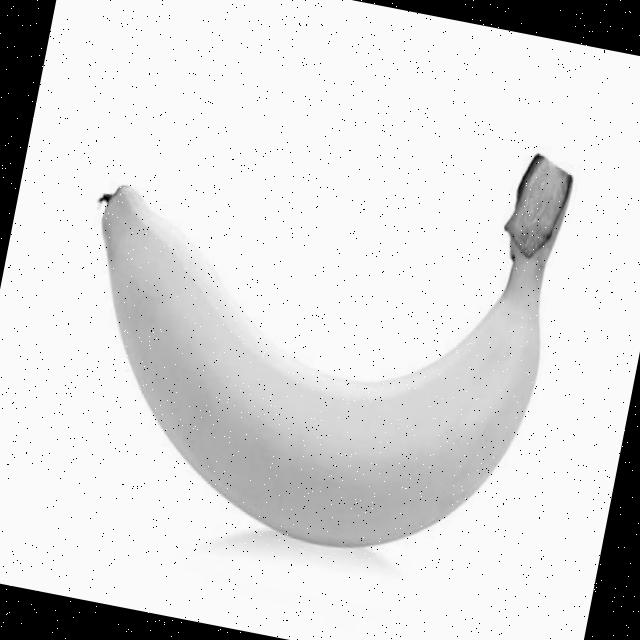Ripe: (44, 160, 568, 583)
